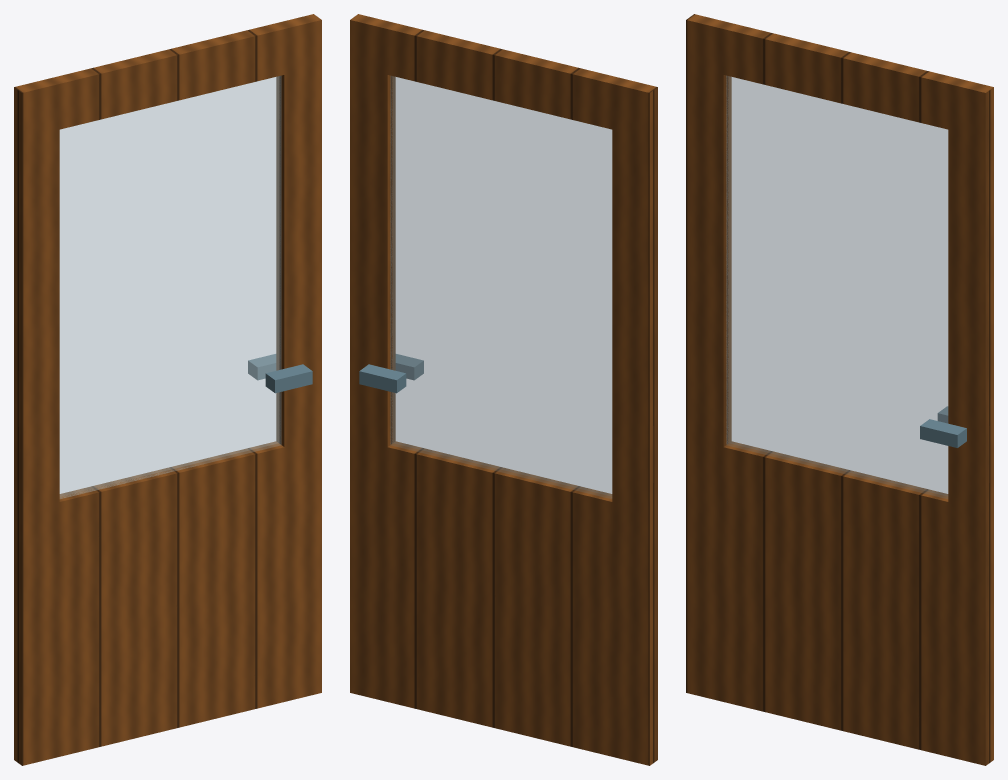
The model's file is door_glazed.glb.
The picture shows the model from 3 angles, left to right: view 1: azimuth 30°, elevation 25°; view 2: azimuth 150°, elevation 25°; view 3: azimuth 330°, elevation 25°; orthographic projection.
Visible parts, largest first — view 1: DoorGlass, door_glazedB, door_glazedL, door_glazedR, door_glazedT, Handle.003, Handle.002; view 2: DoorGlass, door_glazedB, door_glazedL, door_glazedR, door_glazedT, Handle.002, Handle.003; view 3: DoorGlass, door_glazedB, door_glazedR, door_glazedL, door_glazedT, Handle.003.
Part boxes in pixels (<box>): DoorGlass: <box>59,76,281,498</box>; door_glazedB: <box>59,441,284,756</box>; door_glazedL: <box>14,78,59,765</box>; door_glazedR: <box>276,14,321,701</box>; door_glazedT: <box>52,23,284,129</box>; Handle.003: <box>265,364,312,393</box>; Handle.002: <box>248,354,276,380</box>; DoorGlass: <box>390,76,612,498</box>; door_glazedB: <box>387,441,612,756</box>; door_glazedL: <box>612,78,657,765</box>; door_glazedR: <box>350,14,395,701</box>; door_glazedT: <box>387,23,619,129</box>; Handle.002: <box>359,364,406,393</box>; Handle.003: <box>395,354,423,380</box>; DoorGlass: <box>726,76,948,498</box>; door_glazedB: <box>723,441,948,756</box>; door_glazedR: <box>948,78,993,765</box>; door_glazedL: <box>686,14,731,701</box>; door_glazedT: <box>723,23,955,129</box>; Handle.003: <box>920,419,966,447</box>.
Bounding box in the file's own units: 0.96 × 2.06 × 0.15.
3 materials, 1 textured.
